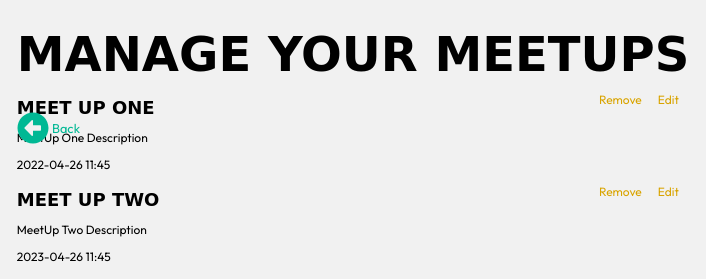
it: Meetups Manager › Delete a meetup
Click the link with test id "delete#1".
click(620, 100)  # box [599,92,642,107]
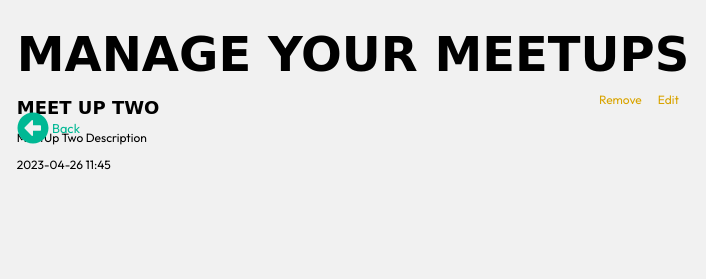
Check: the element with test id "meetups-list" shows "Meet Up Two", box [17,97,159,118]
Check: the element with test id "meetups-list" no longer shows "Meet Up One"
